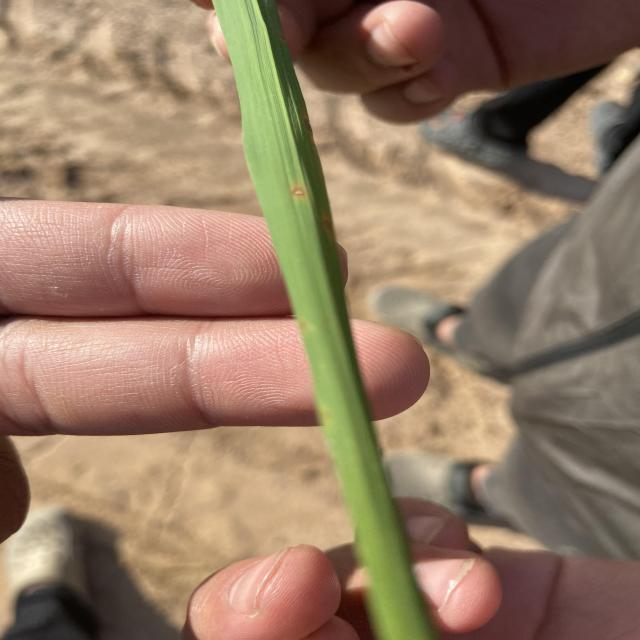Dao on: (294, 188, 305, 198)
